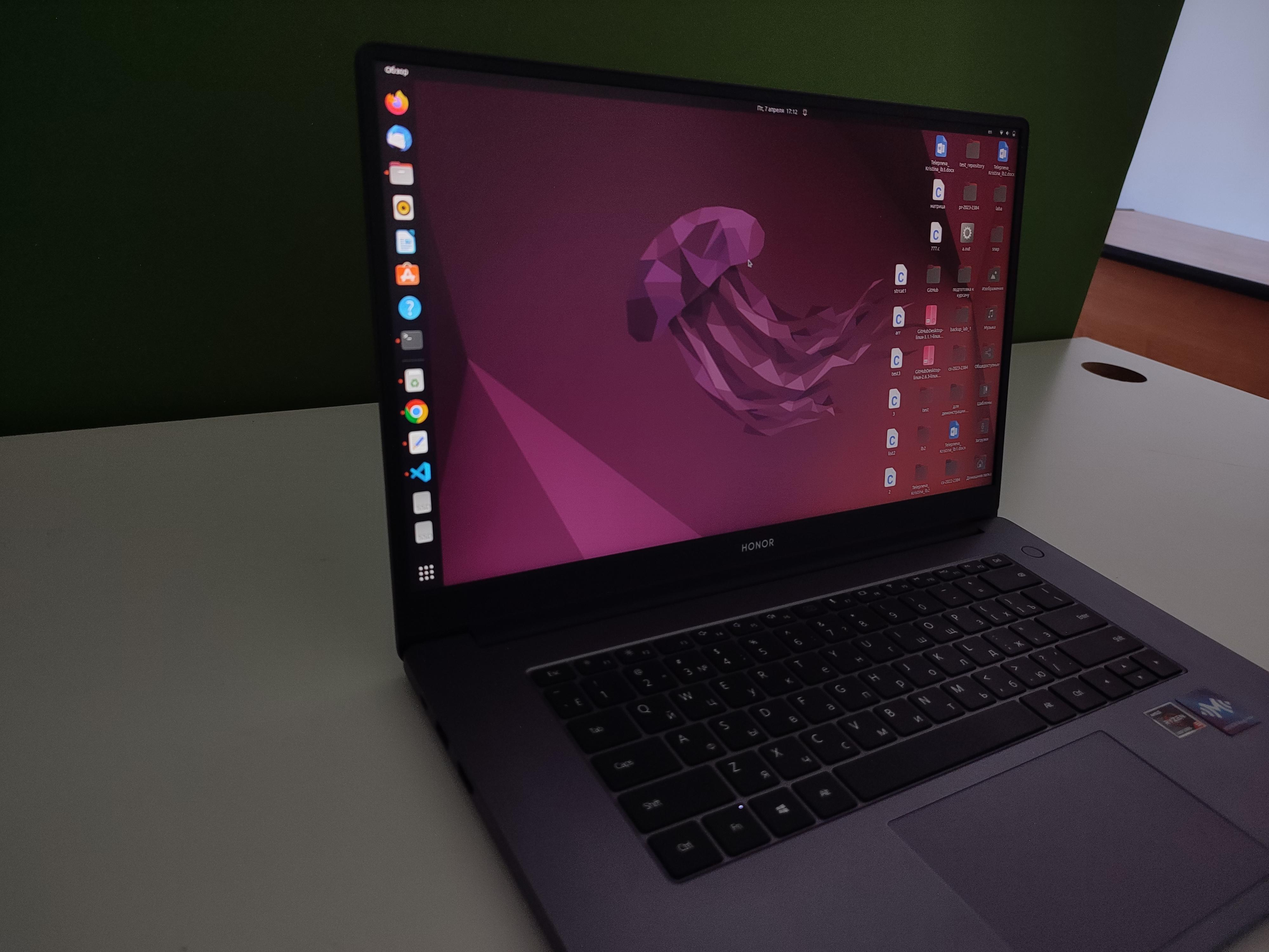monitor: (344, 27, 1034, 655)
